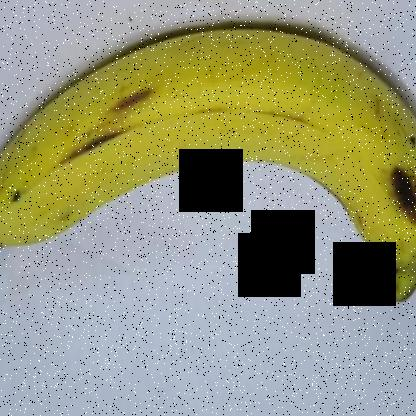freshripe: (0, 2, 415, 314)
